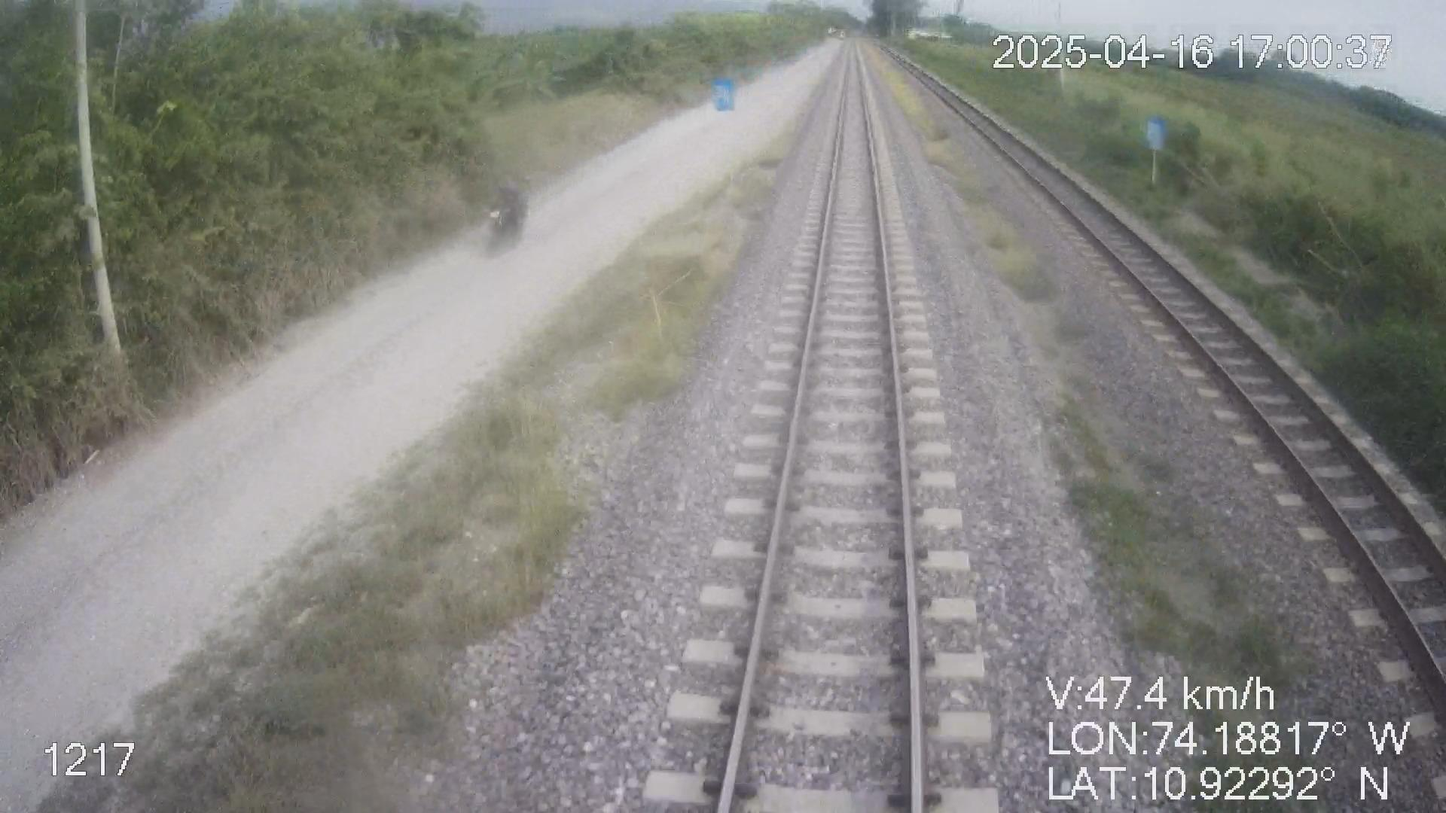Pasto: (0, 0, 810, 515), (902, 26, 1445, 558)
